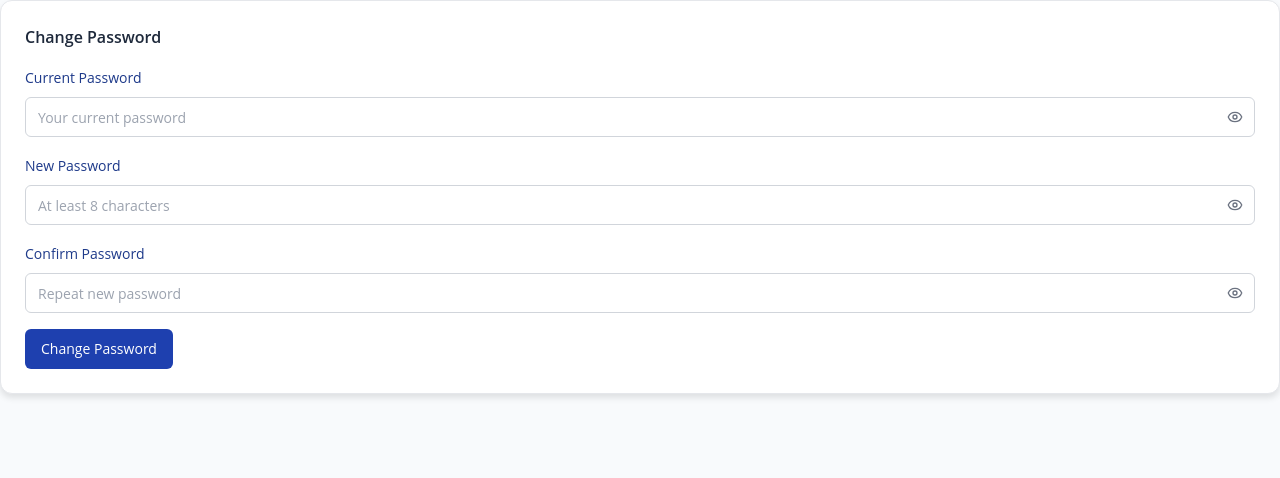
ChangePasswordSection › shows success alert and resets form on success
This screenshot has width=1280, height=478.
In the password field labelled "Current Password": (640, 117) [25, 97, 1255, 137], type "password123"
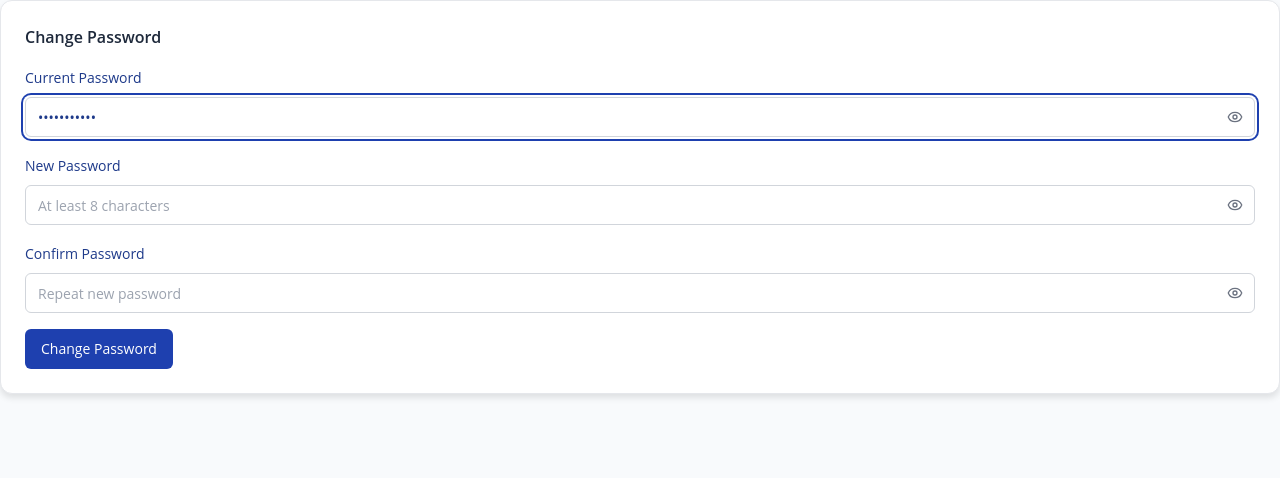
In the password field labelled "New Password": (640, 205) [25, 185, 1255, 225], type "newpass99"
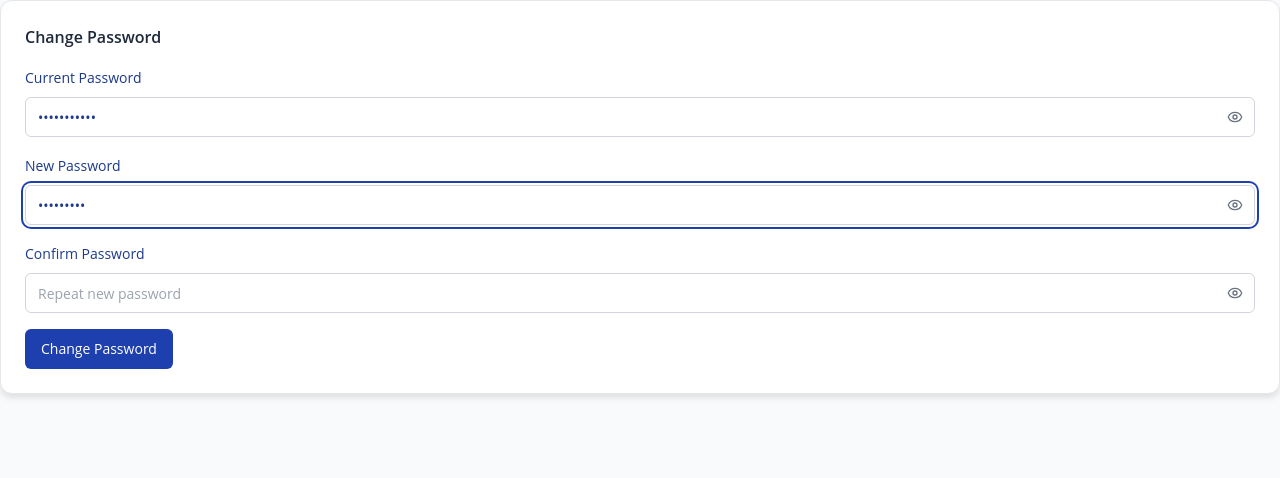
In the password field labelled "Confirm Password": (640, 293) [25, 273, 1255, 313], type "newpass99"
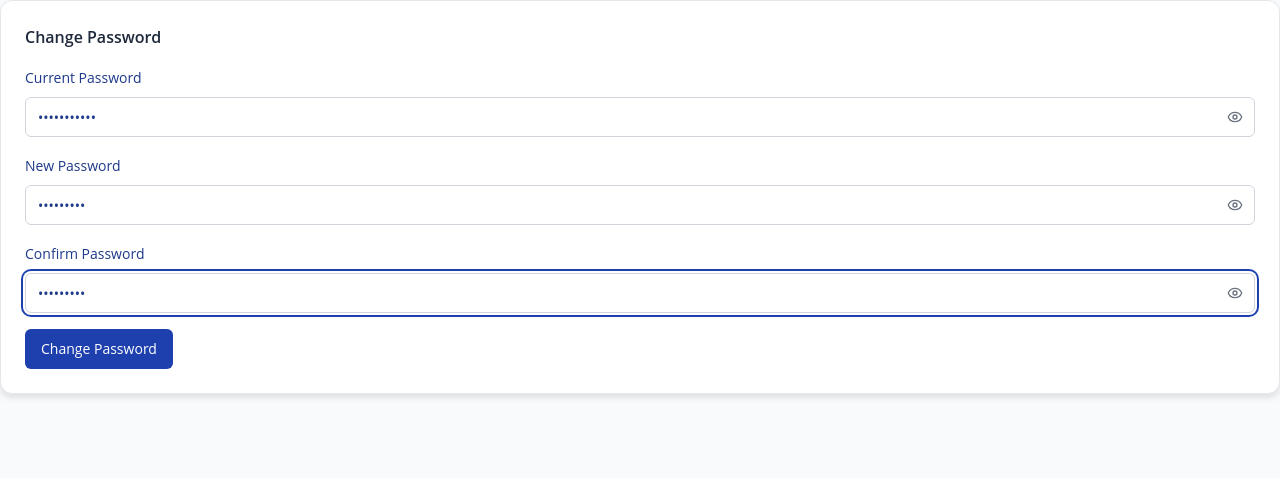
Click the button "Change Password": (99, 349) [25, 329, 173, 369]
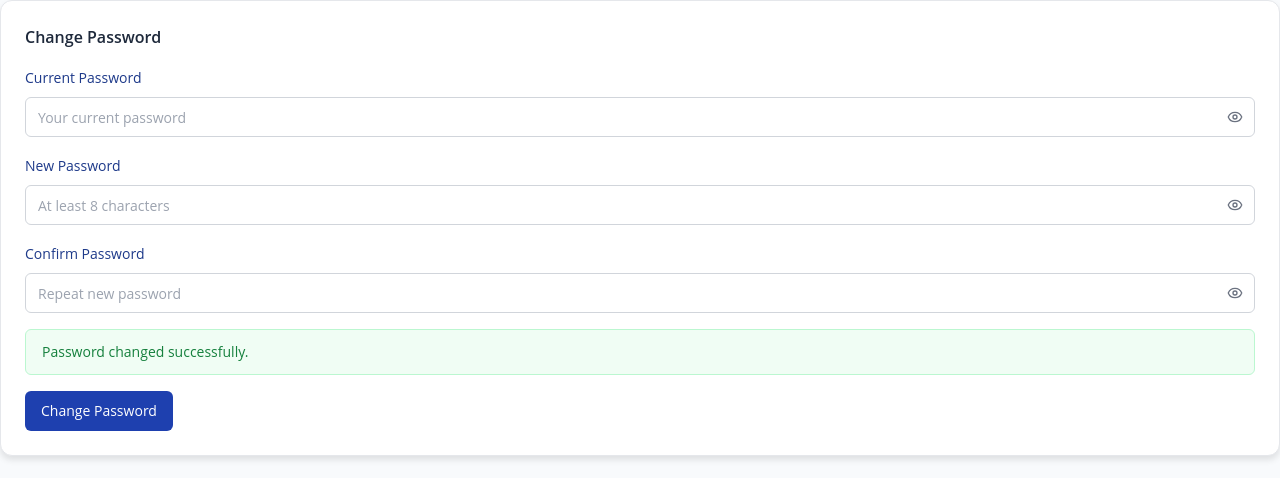
Now the message reads "Password changed successfully.", box [42, 342, 248, 361]
Now the password field labelled "Current Password" is empty, box [25, 97, 1255, 137]
